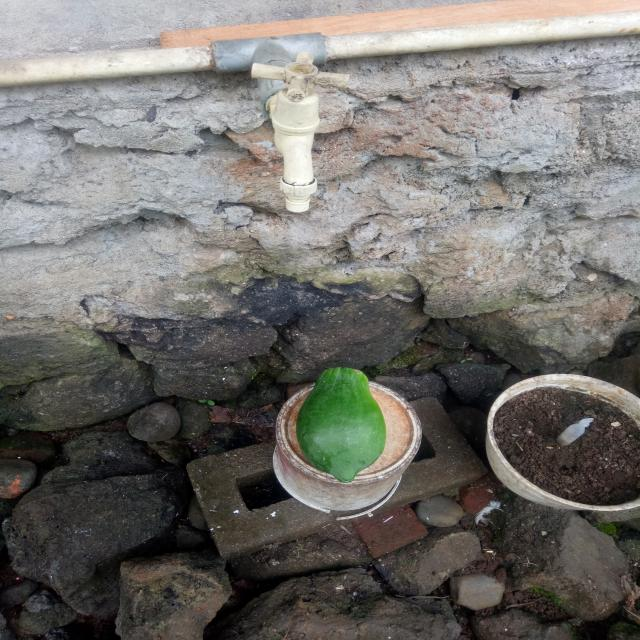Pepaya unrippen: (290, 354, 386, 485)
